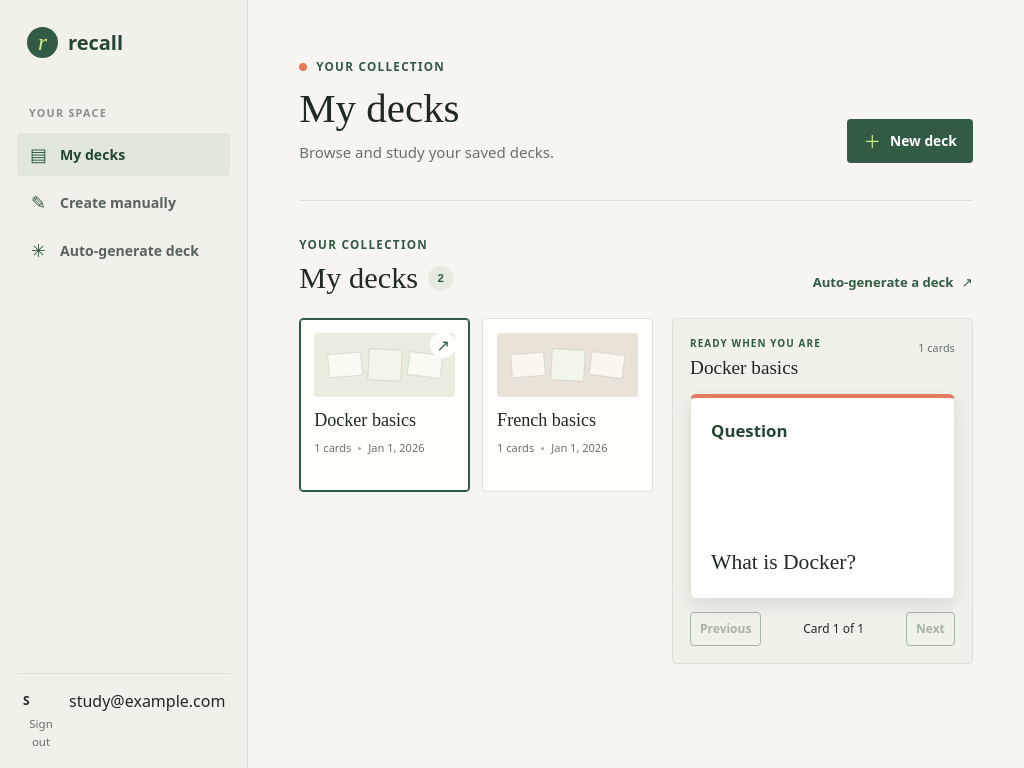
Dashboard › lets the user select a deck and updates the study preview
Click the link "▤ My decks".
click(124, 155)  # box [17,133,230,176]
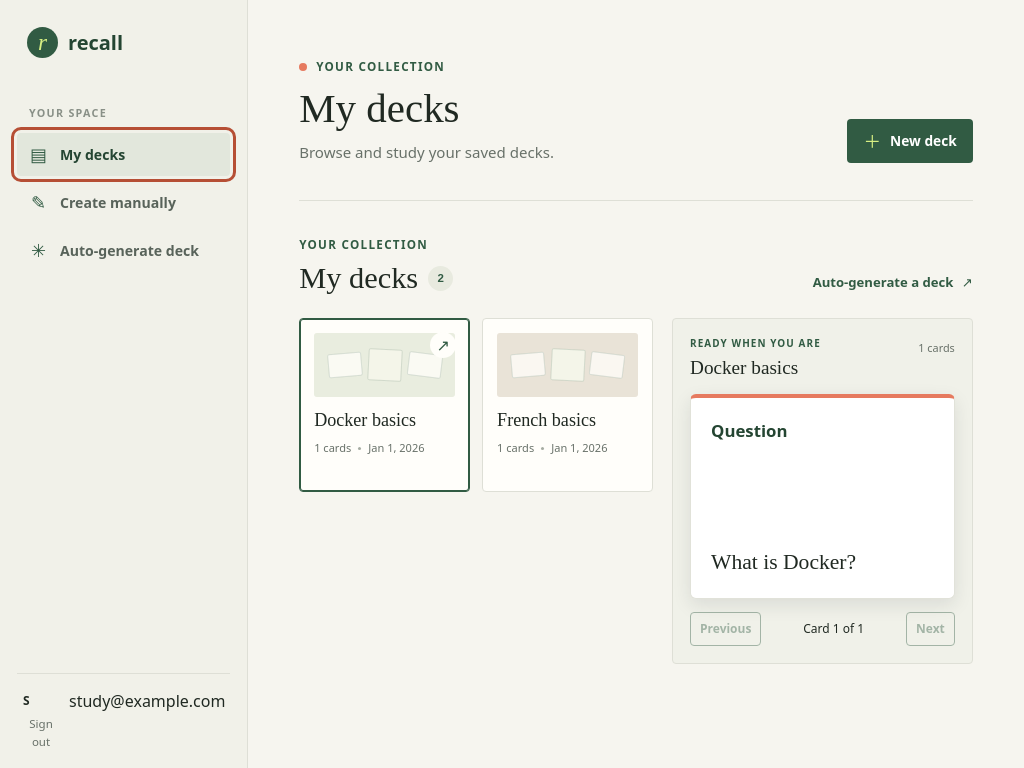
Click the button "French basics 1 cards Jan 1, 2026".
click(568, 405)  # box [482,318,653,492]
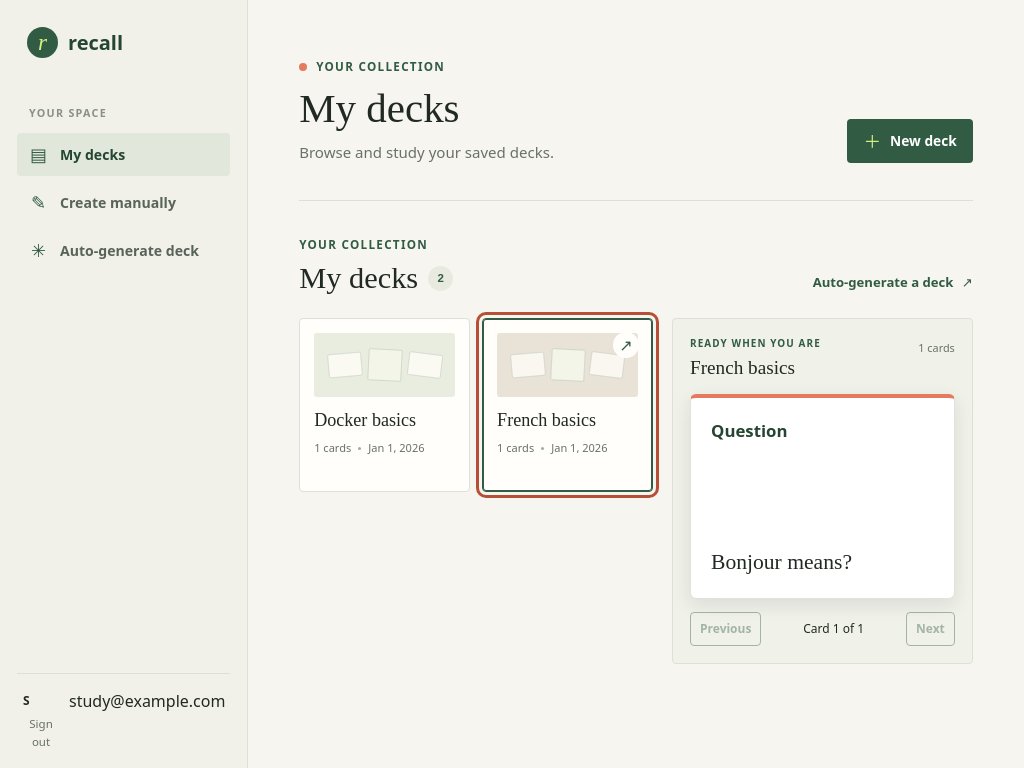
Expected: the heading "French basics" is shown, [690,357,795,378]
Expected: the text "Bonjour means?" is shown, [711,546,852,578]
